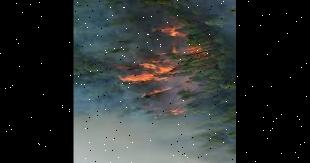fire: (116, 16, 210, 121)
